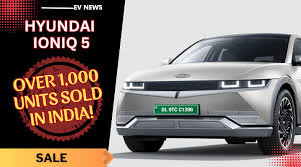Honda Ioniq: (116, 18, 301, 164)
